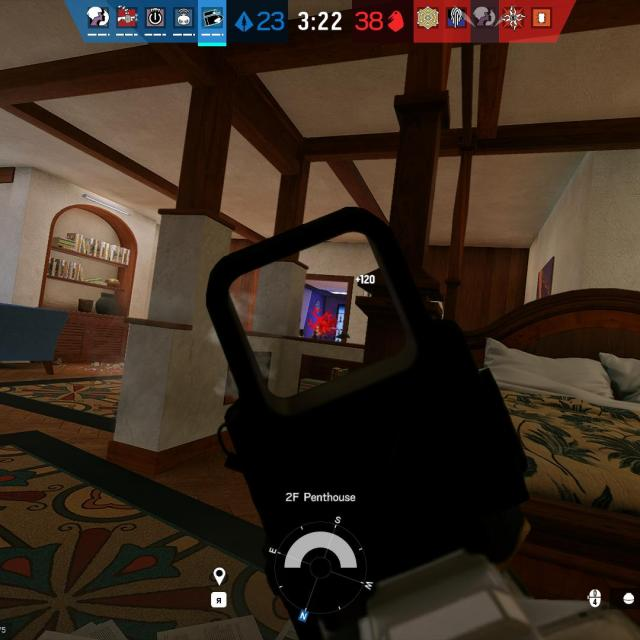Character: (312, 320, 341, 338)
